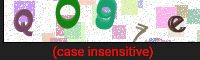7: (130, 20, 153, 43)
O: (48, 1, 86, 32)
Q: (14, 9, 38, 38)
e: (167, 12, 196, 37)
g: (93, 1, 119, 35)
